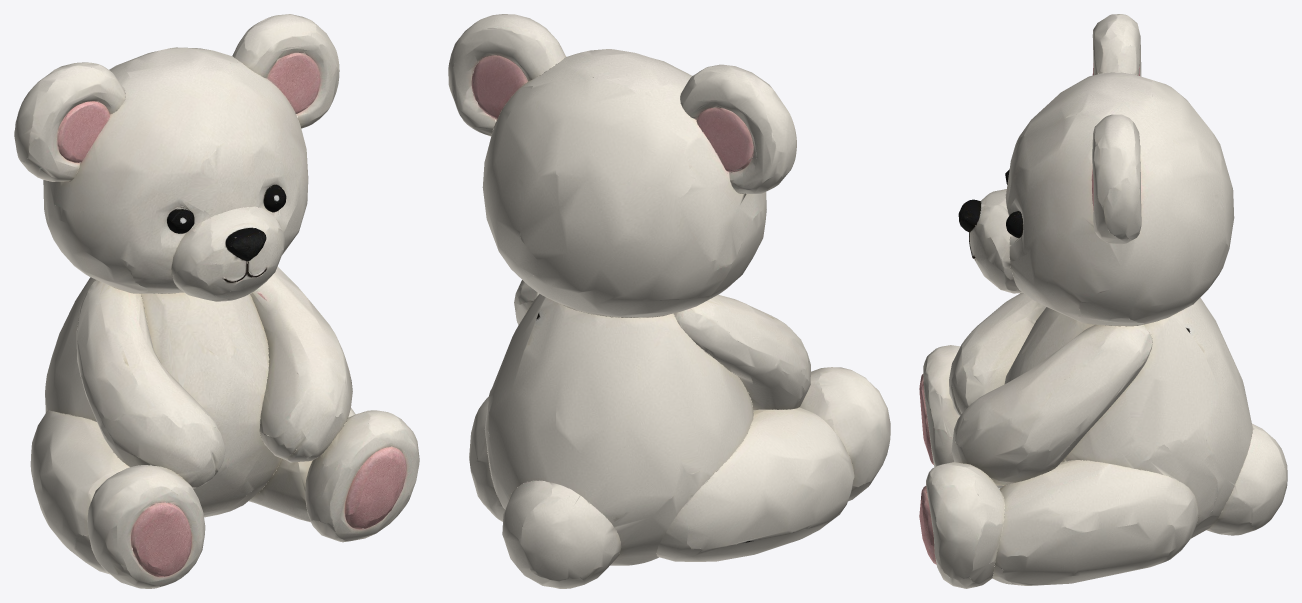
File: teddy_seated.glb
The picture shows the model from 3 angles, left to right: view 1: azimuth 30°, elevation 25°; view 2: azimuth 150°, elevation 25°; view 3: azimuth 270°, elevation 25°; orthographic projection. The views are drawn at different scales.
Parts seen in each view (by area): view 1: teddy_seated; view 2: teddy_seated; view 3: teddy_seated.
Boxes of the visible parts, left/top/right/bottom form: teddy_seated: left=14, top=14, right=419, bottom=588; teddy_seated: left=448, top=14, right=890, bottom=588; teddy_seated: left=919, top=14, right=1287, bottom=588.
Bounding box in the file's own units: 0.7285 × 1 × 0.717.
Materials: 1 (1 with a texture image).
